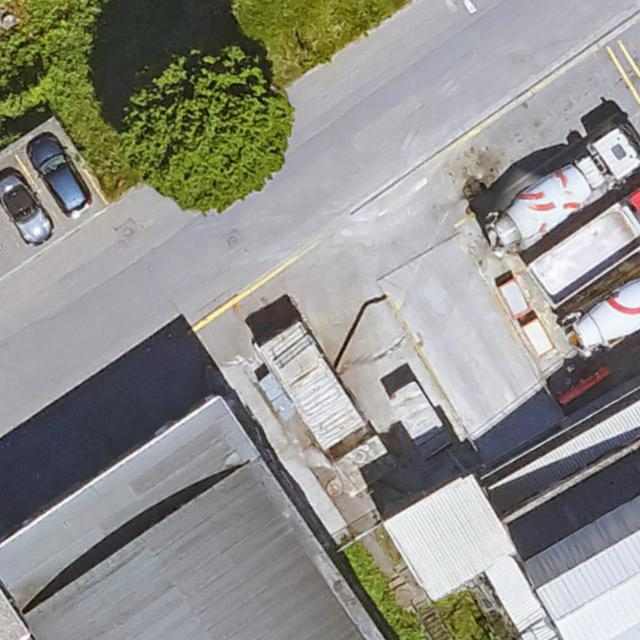tree: (126, 47, 292, 211)
